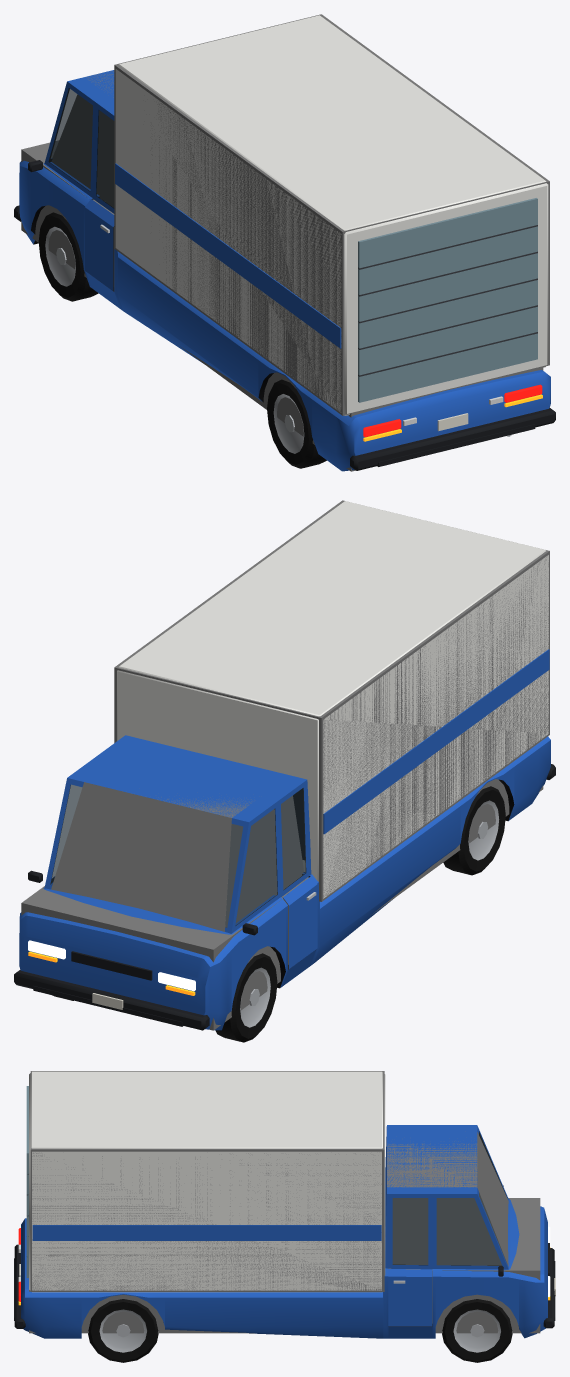
Rendered from truck.glb.
3 renders of one model, top to bottom at view 1: azimuth 30°, elevation 25°; view 2: azimuth 150°, elevation 25°; view 3: azimuth 270°, elevation 25°, orthographic. The views are drawn at different scales.
Visible parts, largest first — view 1: truck_Body, truck, truck_Cabin, truck_Door_FL, truck_Bumper_R, truck_Wheel_FL, truck_Wheel_RL; view 2: truck_Body, truck, truck_Cabin, truck_Door_FL, truck_Bumper_F, truck_Wheel_FL, truck_Wheel_RL, truck_Grille; view 3: truck_Body, truck, truck_Cabin, truck_Door_FR, truck_Wheel_FR, truck_Wheel_RR, truck_Bumper_F, truck_Bumper_R.
Boxes of the visible parts, left/top/right/bottom form: truck_Body: left=19, top=15, right=550, bottom=471; truck: left=21, top=14, right=549, bottom=471; truck_Cabin: left=44, top=70, right=114, bottom=197; truck_Door_FL: left=85, top=103, right=114, bottom=290; truck_Bumper_R: left=350, top=407, right=555, bottom=470; truck_Wheel_FL: left=38, top=212, right=98, bottom=301; truck_Wheel_RL: left=267, top=379, right=326, bottom=468; truck_Body: left=19, top=501, right=550, bottom=1030; truck: left=21, top=500, right=549, bottom=1030; truck_Cabin: left=44, top=735, right=311, bottom=933; truck_Door_FL: left=278, top=780, right=317, bottom=968; truck_Bumper_F: left=14, top=970, right=209, bottom=1030; truck_Wheel_FL: left=215, top=953, right=277, bottom=1042; truck_Wheel_RL: left=443, top=786, right=505, bottom=875; truck_Grille: left=71, top=951, right=152, bottom=980; truck_Body: left=18, top=1071, right=550, bottom=1338; truck: left=29, top=1071, right=540, bottom=1333; truck_Cabin: left=385, top=1125, right=508, bottom=1269; truck_Door_FR: left=388, top=1194, right=432, bottom=1326; truck_Wheel_FR: left=442, top=1299, right=512, bottom=1362; truck_Wheel_RR: left=88, top=1299, right=158, bottom=1362; truck_Bumper_F: left=543, top=1248, right=555, bottom=1328; truck_Bumper_R: left=14, top=1244, right=25, bottom=1328.
Size of what is drawn, in the model's own units: 2.59 by 3.05 by 6.89.
